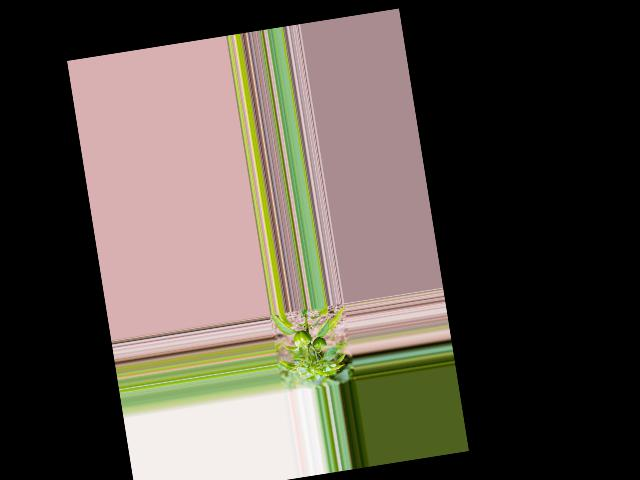bell_pepper: (311, 335, 328, 351)
